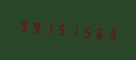five: (53, 18, 64, 39), (77, 20, 88, 41)
nine: (17, 15, 28, 36), (29, 16, 40, 37)
one: (41, 17, 52, 38), (65, 19, 76, 40)
six: (89, 21, 100, 42)
three: (101, 22, 112, 43)
